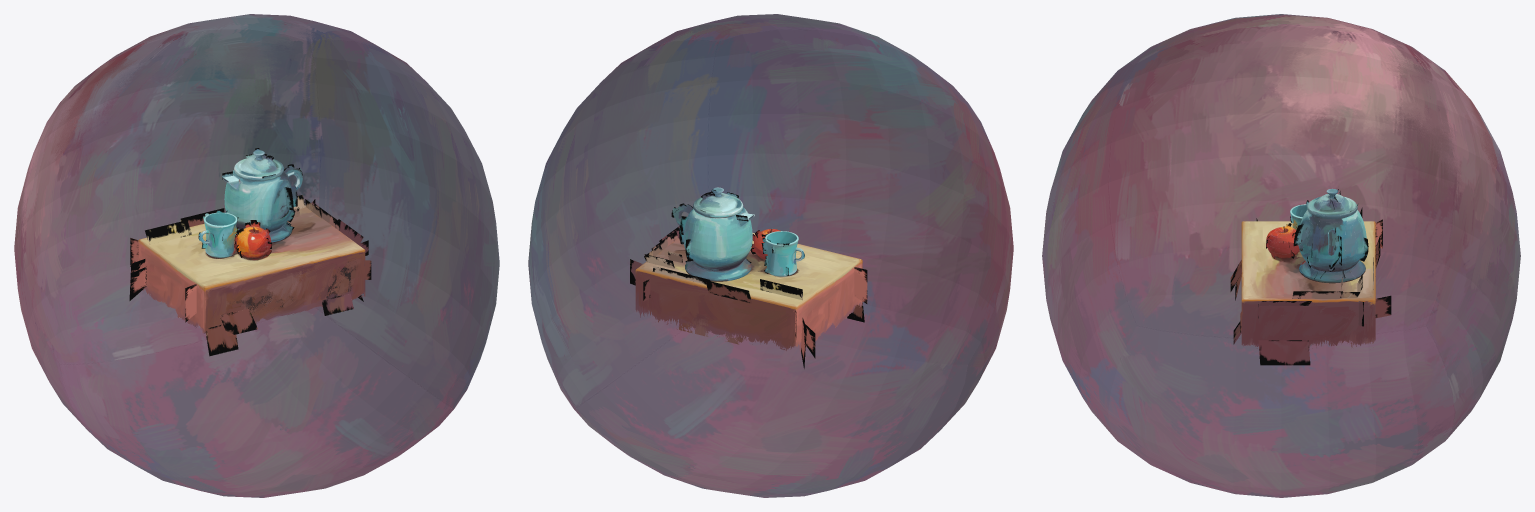
Rendered from tea.glb.
3 views of the same model, side by side, from view 1: azimuth 30°, elevation 25°; view 2: azimuth 150°, elevation 25°; view 3: azimuth 270°, elevation 25° (orthographic).
Visible parts, largest first — view 1: Cube.001_12, Cube_13, Cube.003_11, Cylinder.001_5, Cylinder_6, Cylinder.002_4, Cylinder.006_0, Cube.006_8; view 2: Cube.001_12, Cube_13, Cylinder.001_5, Cube.003_11, Cylinder_6, Cylinder.002_4, Cylinder.003_3, Cube.006_8; view 3: Cube.001_12, Cube_13, Cube.003_11, Cylinder.001_5, Cylinder.002_4, Cylinder.003_3, Cylinder.006_0, Cube.006_8.
Part boxes in pixels (bbox=[...]): Cube.001_12: bbox=[14, 14, 499, 497]; Cube_13: bbox=[138, 207, 365, 333]; Cube.003_11: bbox=[129, 195, 371, 356]; Cylinder.001_5: bbox=[222, 170, 293, 231]; Cylinder_6: bbox=[200, 212, 237, 257]; Cylinder.002_4: bbox=[234, 156, 283, 180]; Cylinder.006_0: bbox=[236, 226, 271, 258]; Cube.006_8: bbox=[222, 148, 302, 230]; Cube.001_12: bbox=[528, 14, 1013, 497]; Cube_13: bbox=[635, 233, 862, 352]; Cylinder.001_5: bbox=[683, 207, 754, 270]; Cube.003_11: bbox=[630, 226, 864, 368]; Cylinder_6: bbox=[765, 231, 803, 276]; Cylinder.002_4: bbox=[693, 193, 743, 217]; Cylinder.003_3: bbox=[685, 261, 751, 281]; Cube.006_8: bbox=[671, 189, 751, 264]; Cube.001_12: bbox=[1042, 14, 1520, 497]; Cube_13: bbox=[1241, 221, 1375, 348]; Cube.003_11: bbox=[1230, 207, 1391, 365]; Cylinder.001_5: bbox=[1298, 194, 1366, 271]; Cylinder.002_4: bbox=[1307, 194, 1357, 219]; Cylinder.003_3: bbox=[1299, 260, 1365, 283]; Cylinder.006_0: bbox=[1266, 226, 1299, 258]; Cube.006_8: bbox=[1293, 189, 1368, 279].
Bounding box in the file's own units: 11.73 × 11.73 × 11.73.
Materials: 4 (4 with a texture image).
